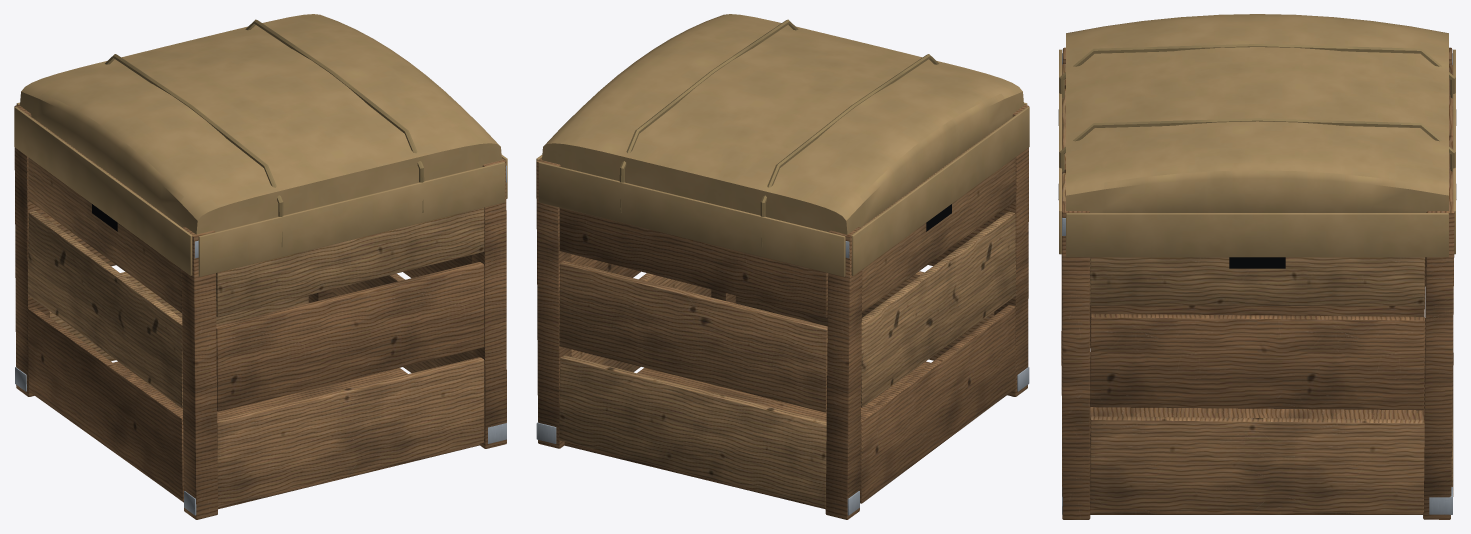
Rendered from produce_box_mixed.glb.
The picture shows the model from 3 angles, left to right: view 1: azimuth 30°, elevation 25°; view 2: azimuth 150°, elevation 25°; view 3: azimuth 270°, elevation 25°; orthographic projection. The views are drawn at different scales.
Visible parts, largest first — view 1: ProduceBoxMixedBody; view 2: ProduceBoxMixedBody; view 3: ProduceBoxMixedBody.
Part boxes in pixels (box(x1,y1,x2,y2)): ProduceBoxMixedBody: box(14, 14, 507, 519); ProduceBoxMixedBody: box(536, 14, 1029, 519); ProduceBoxMixedBody: box(1058, 14, 1456, 519).
Size of the model in its own units: 0.992 by 0.9834 by 0.994.
Materials: 8 (6 with a texture image).
